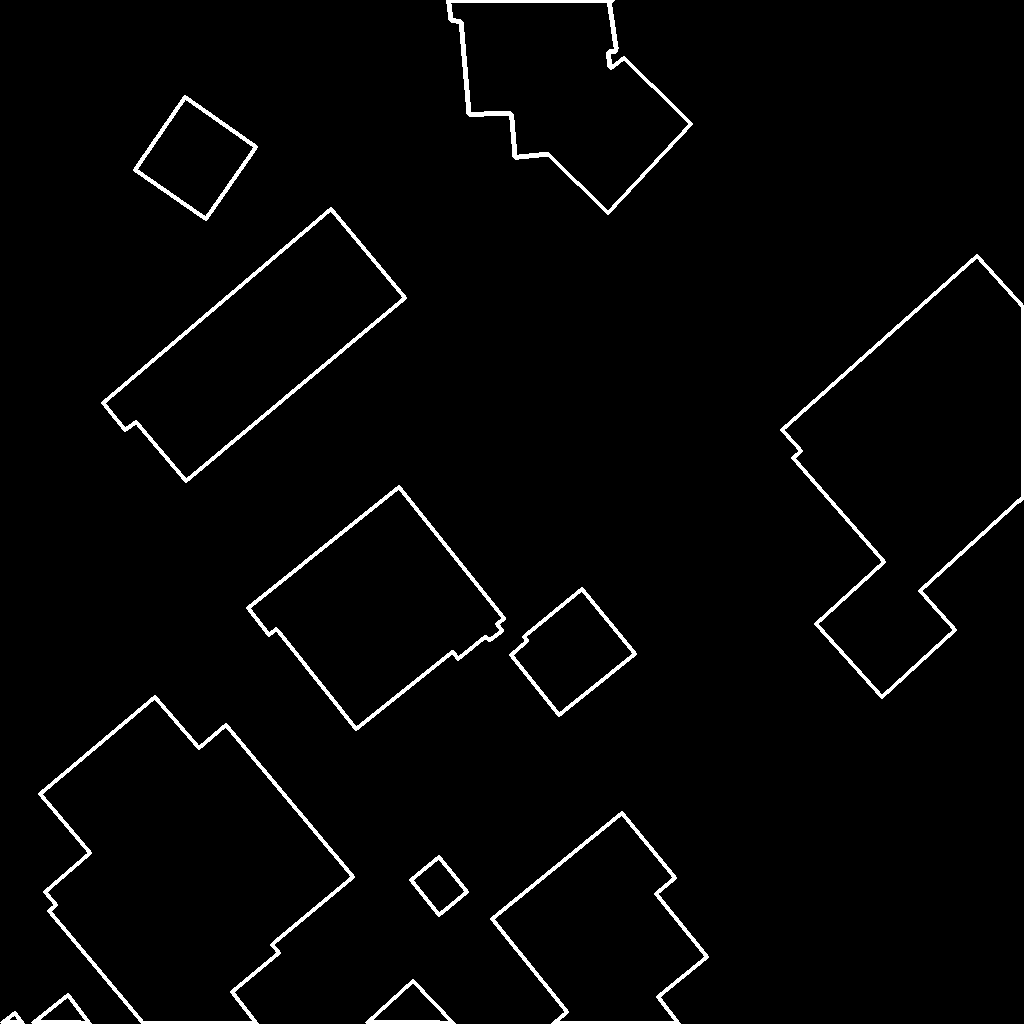building: (782, 256, 1024, 698), (40, 697, 354, 1024), (103, 209, 406, 482), (248, 487, 505, 730), (448, 0, 692, 214), (492, 813, 708, 1024), (511, 589, 636, 716), (135, 97, 257, 220), (367, 981, 455, 1024), (411, 857, 468, 916), (2, 995, 91, 1024)
